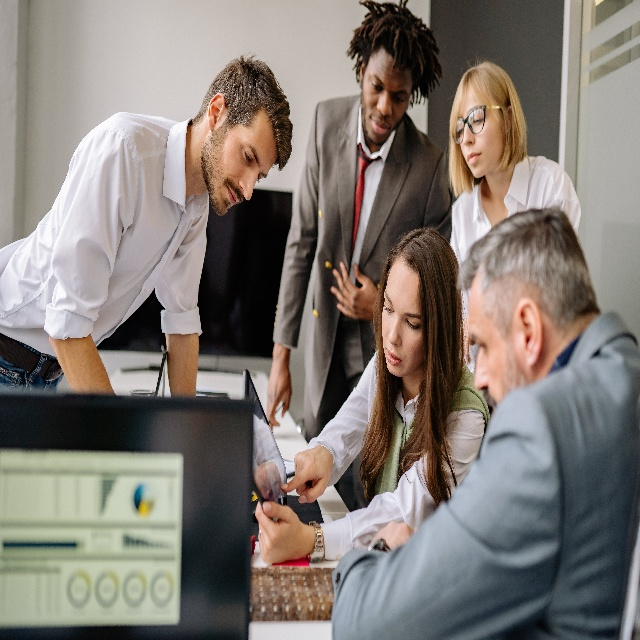Gafas: (452, 105, 500, 145)
Sin_guantes: (254, 500, 308, 566), (281, 445, 333, 504), (330, 261, 378, 321), (266, 357, 292, 431), (372, 519, 415, 549)
